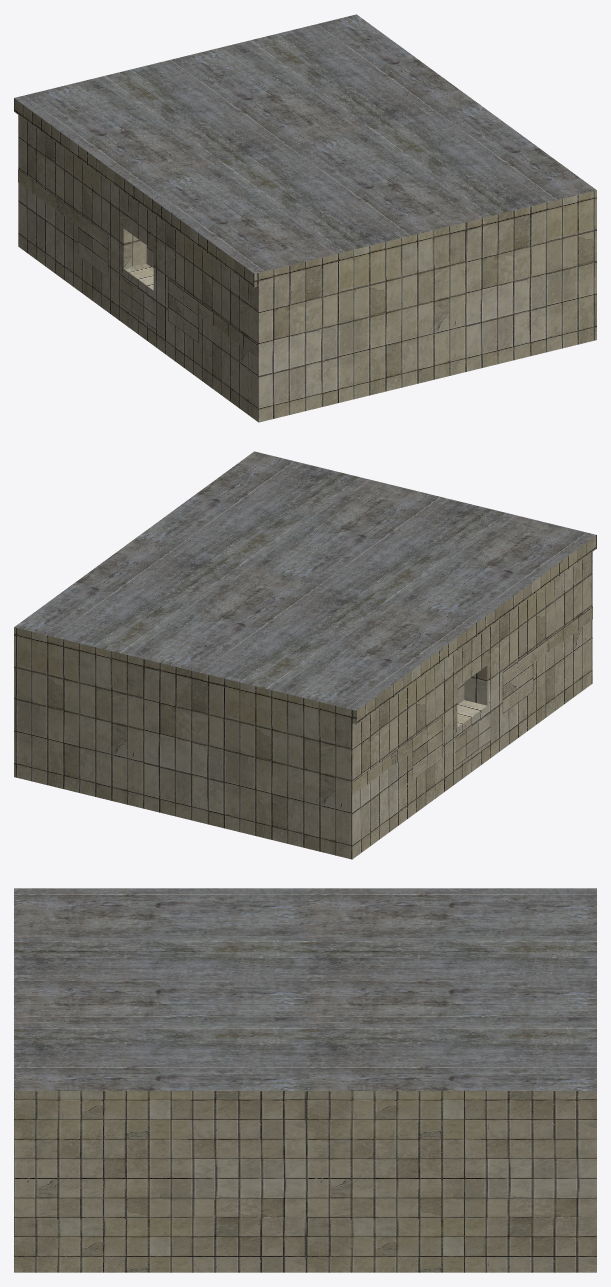
The model's file is civ_top_b.FBX.
3 renders of one model, top to bottom at view 1: azimuth 30°, elevation 25°; view 2: azimuth 150°, elevation 25°; view 3: azimuth 270°, elevation 25°, orthographic. The views are drawn at different scales.
Parts seen in each view (by area): view 1: civ_top_b; view 2: civ_top_b; view 3: civ_top_b.
Boxes of the visible parts, x1,y1,x2,y2 form: civ_top_b: (14,14,596,422); civ_top_b: (14,451,596,859); civ_top_b: (14,888,596,1272).
Size of the model in its own units: 329 by 138 by 400.
